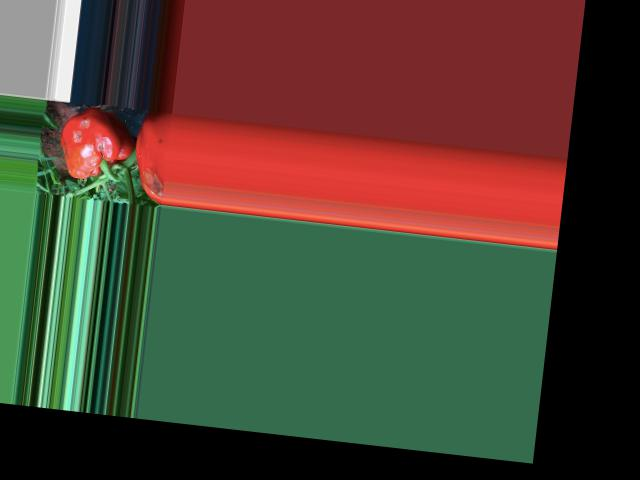bell_pepper: (59, 100, 137, 190)
